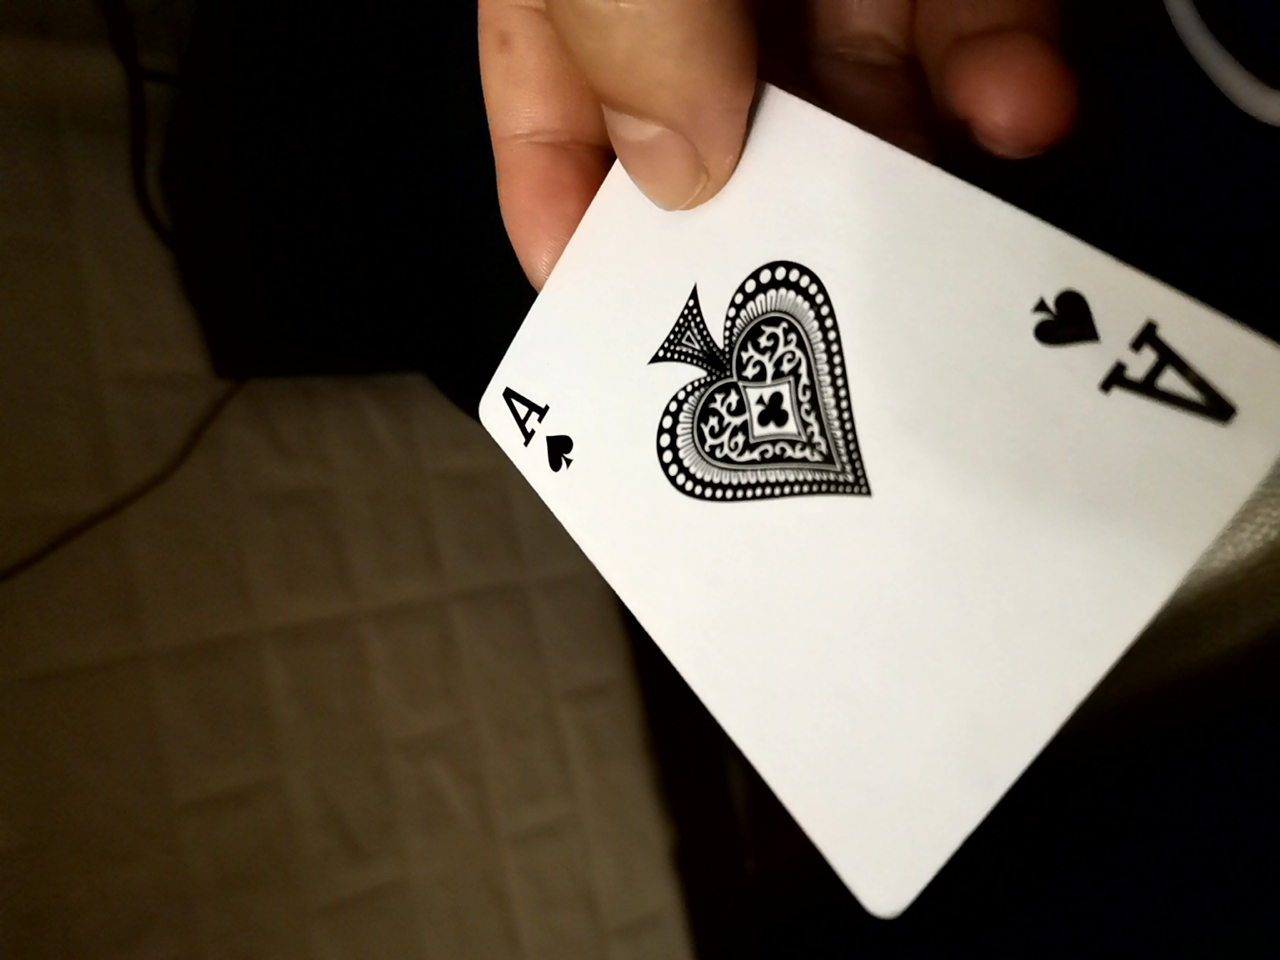ht a: (424, 73, 1236, 919)
